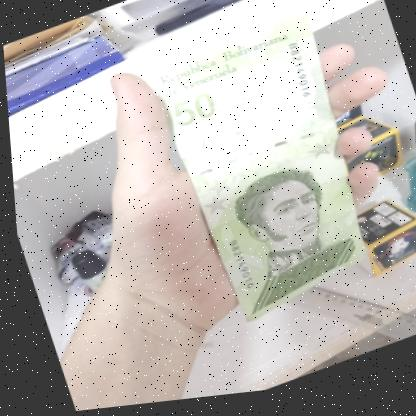fifty-front-vef: (143, 11, 390, 338)
